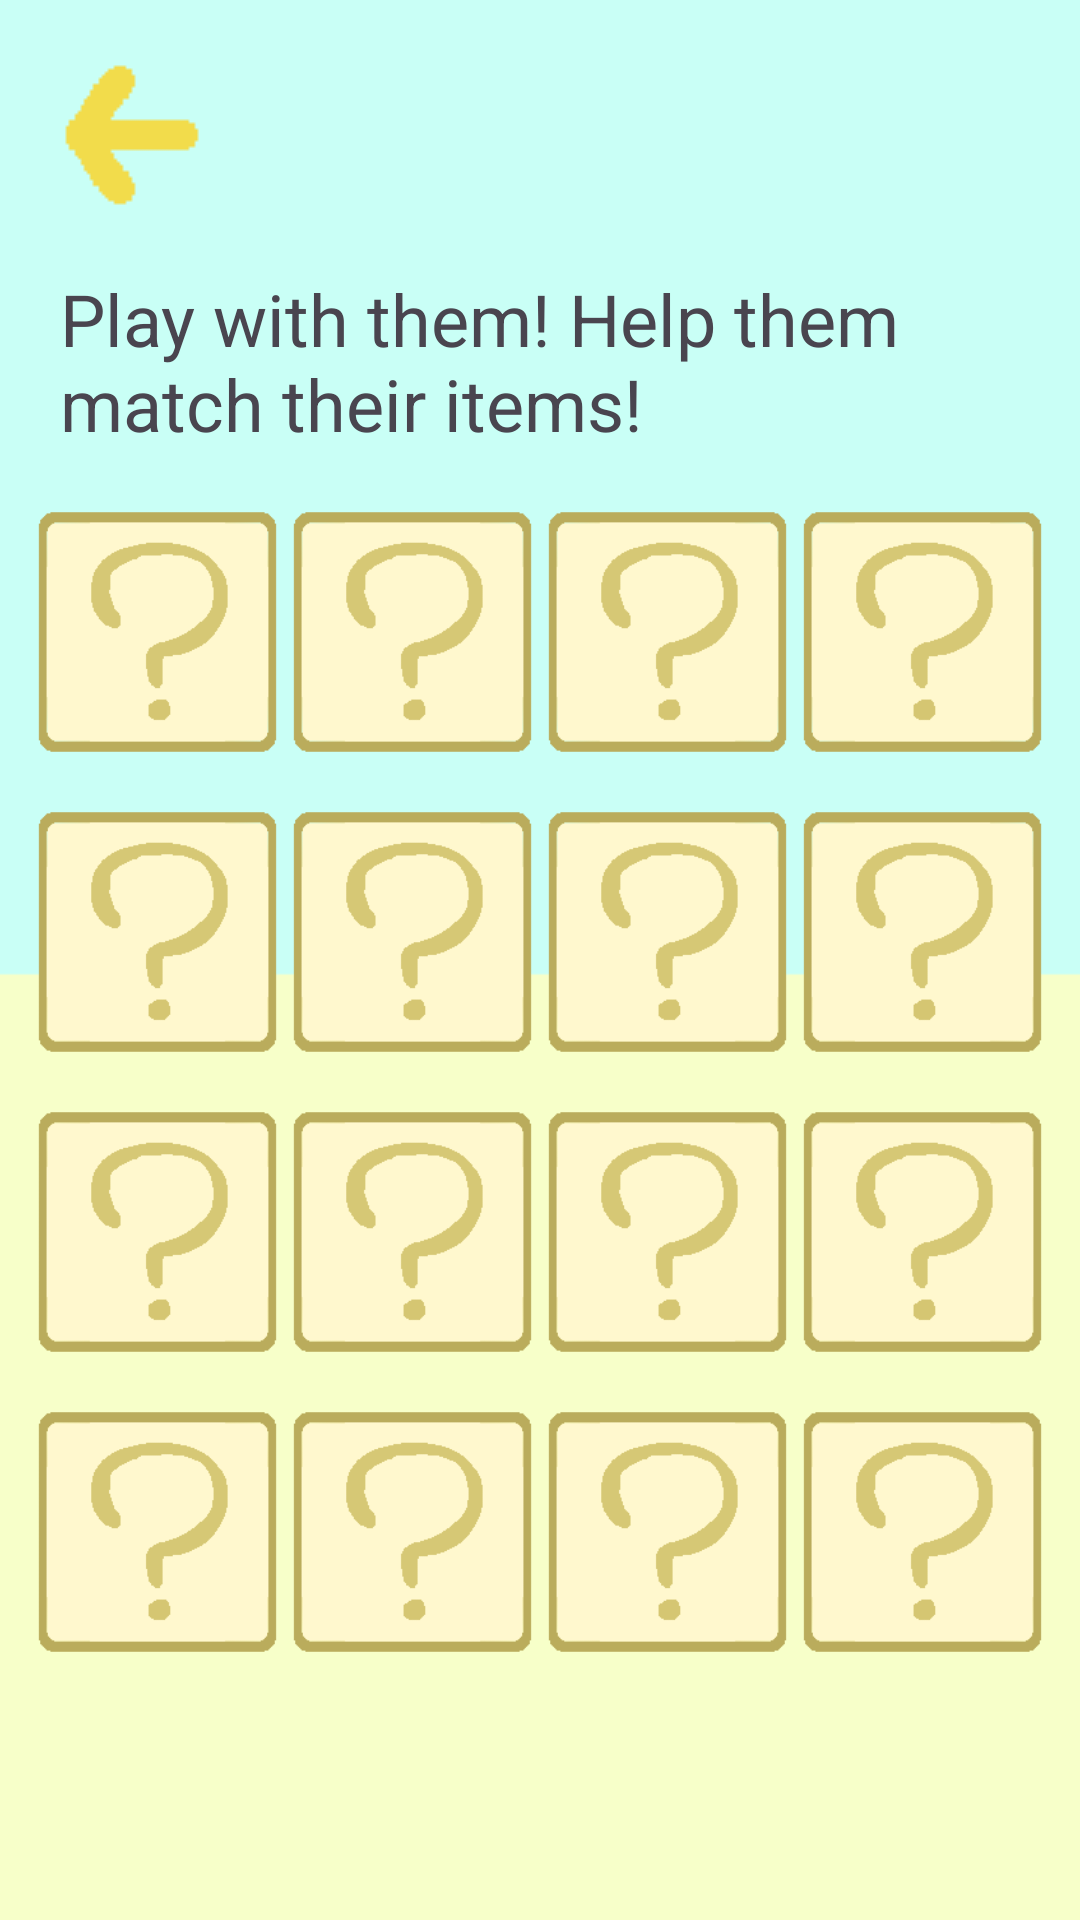

Point at icon controls on the screen. Image size 1080px×1920px, points as (x=x, y=y).
matching game back: (x=132, y=135)
